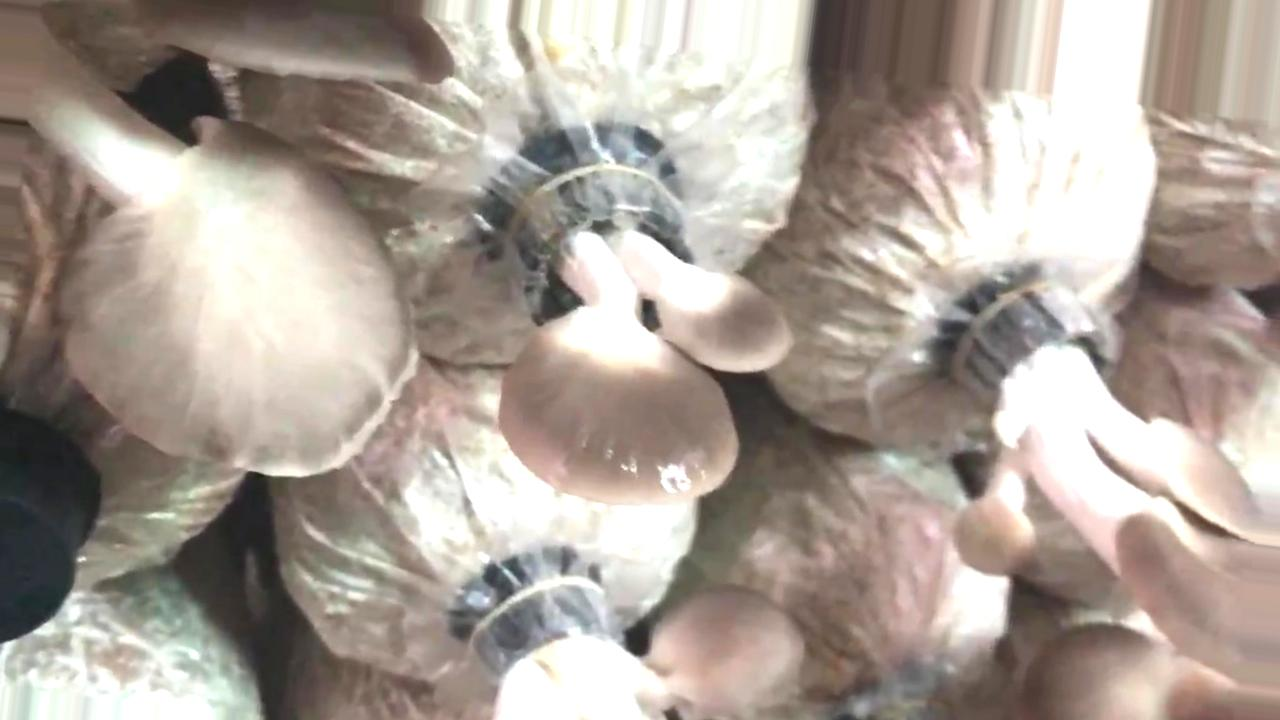nam: (4, 1, 453, 487), (949, 292, 1280, 687), (491, 152, 798, 507), (466, 568, 802, 720)
